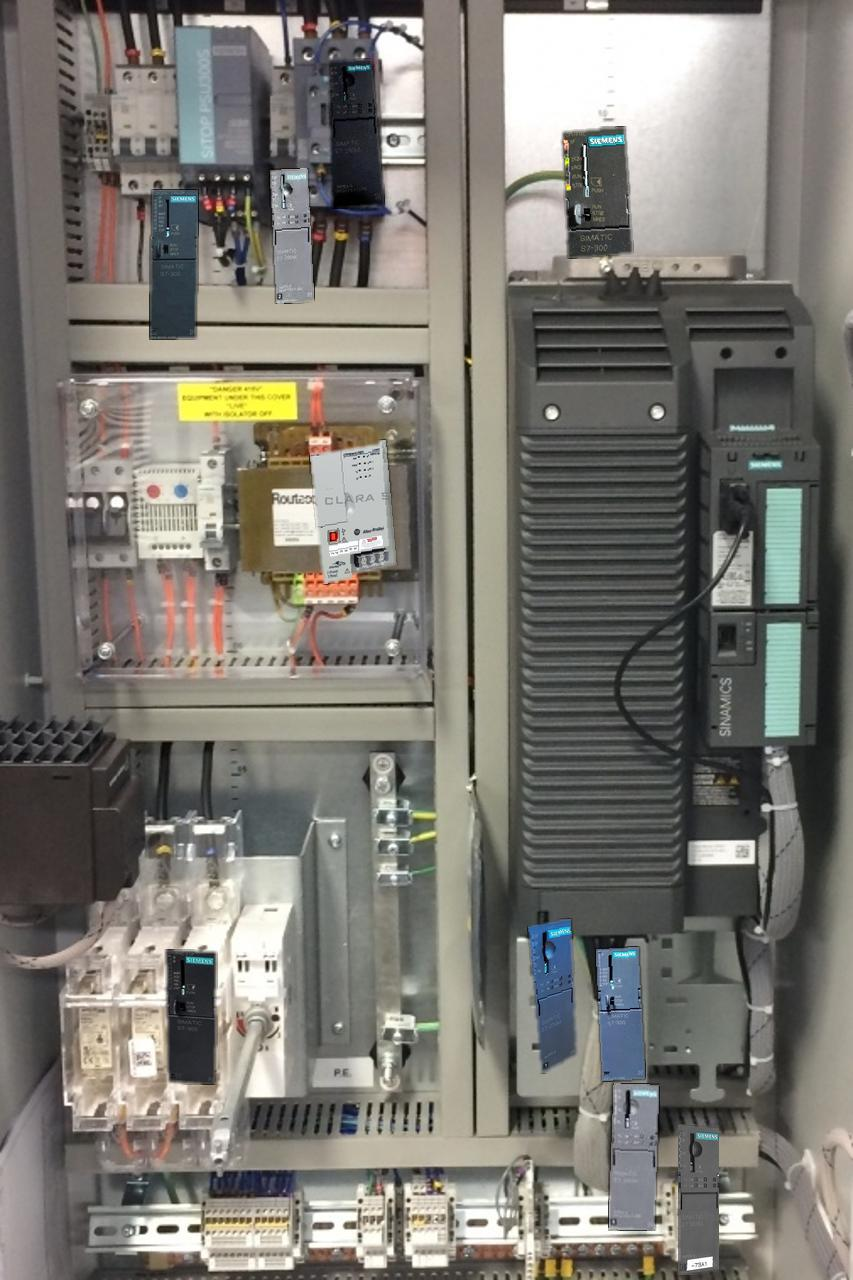AllenBradley: (310, 440, 395, 583)
Siemens: (562, 127, 631, 257), (150, 190, 197, 338), (166, 950, 215, 1083), (596, 947, 644, 1080)
